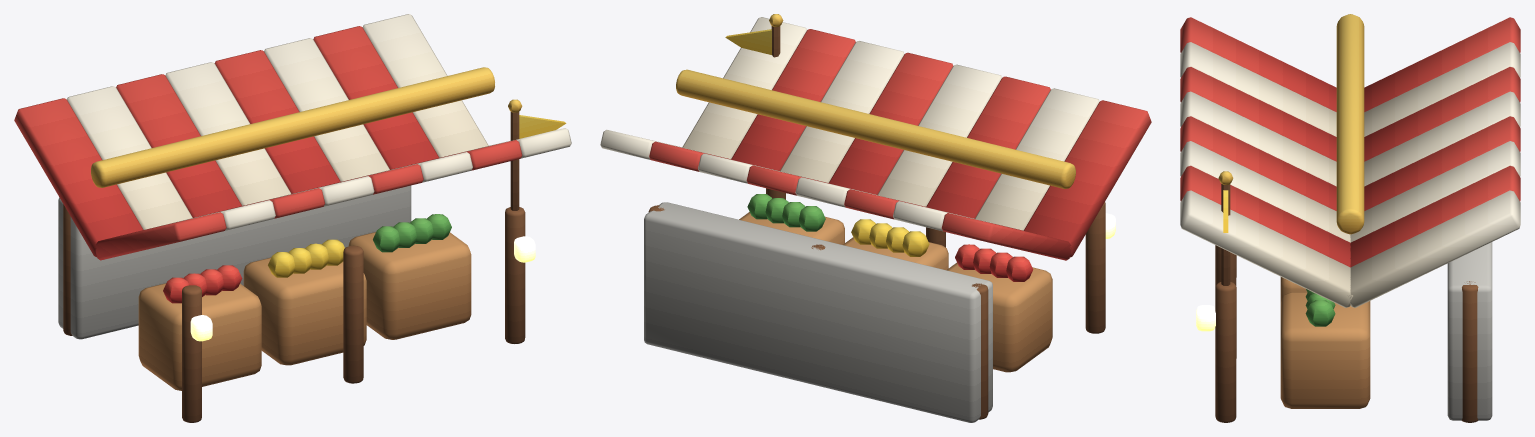
The model's file is marketR.glb.
3 views of the same model, side by side, from view 1: azimuth 30°, elevation 25°; view 2: azimuth 150°, elevation 25°; view 3: azimuth 270°, elevation 25° (orthographic). The views are drawn at different scales.
Parts seen in each view (by area): view 1: marketR; view 2: marketR; view 3: marketR.
Boxes of the visible parts, left/top/right/bottom form: marketR: left=14, top=14, right=571, bottom=422; marketR: left=600, top=14, right=1151, bottom=422; marketR: left=1180, top=14, right=1520, bottom=422.
Size of the model in its own units: 1.95 by 1.1 by 1.37.
Materials: 1 (1 with a texture image).
